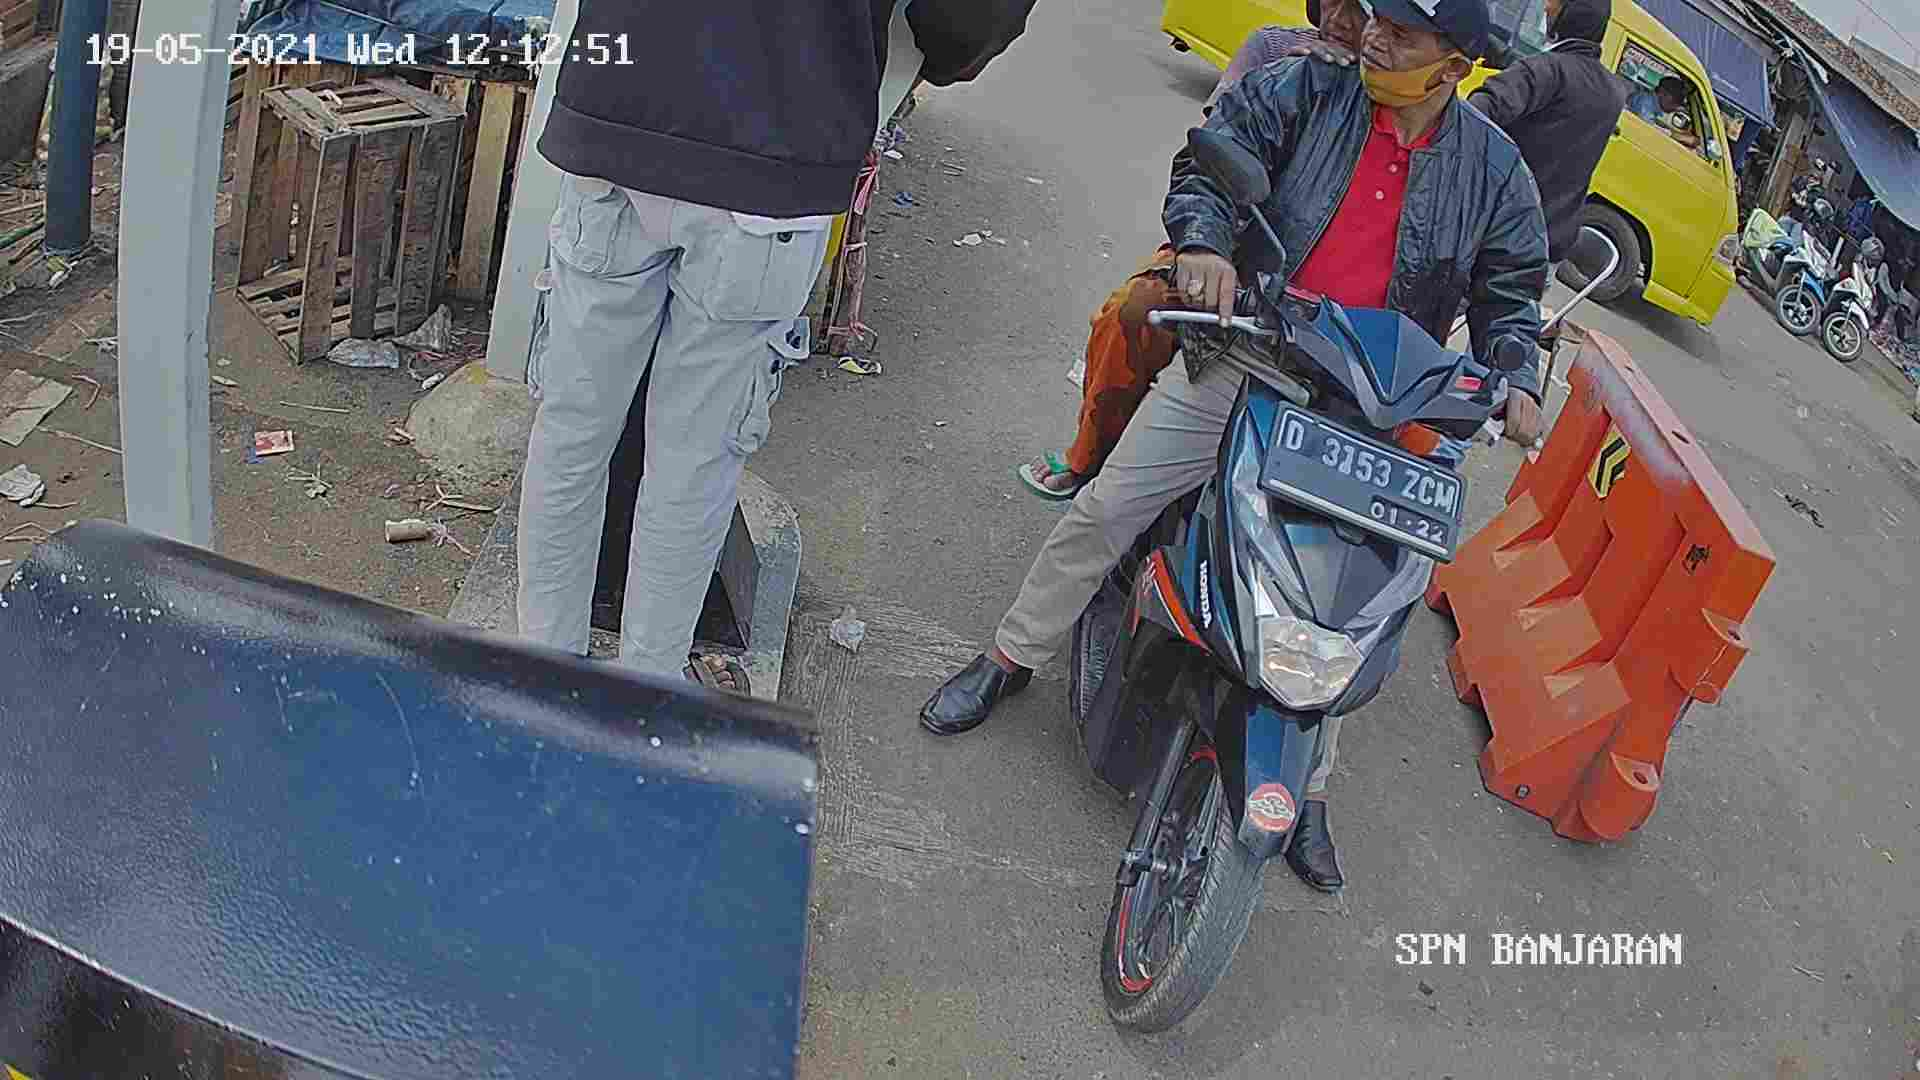motor: (1089, 255, 1478, 1042)
